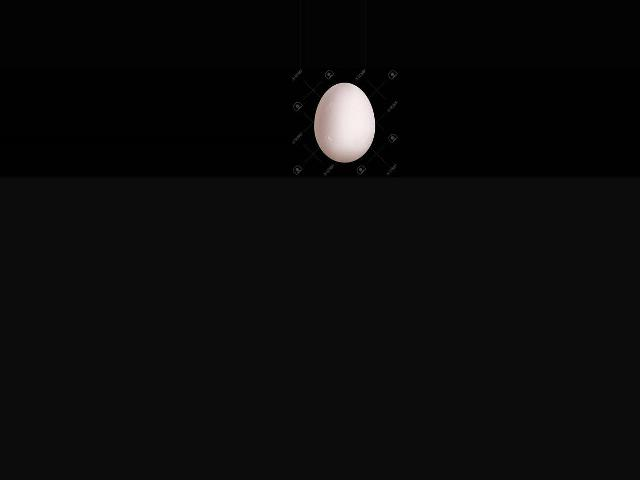egg: (315, 83, 375, 162)
